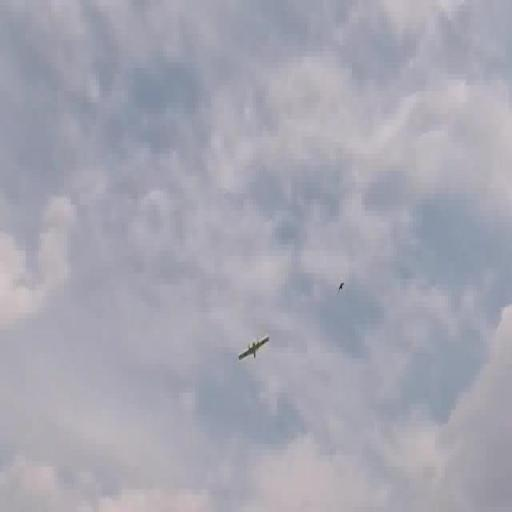uav: (234, 328, 272, 370)
